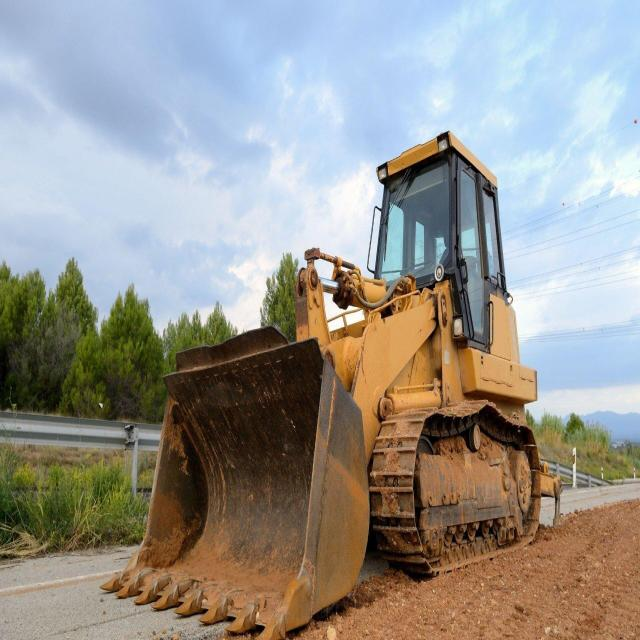buldozerpayloadergrader: (130, 110, 564, 630)
